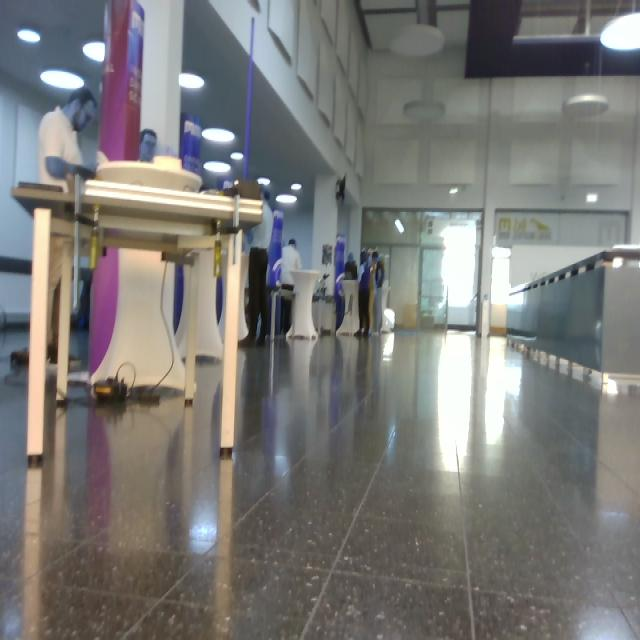door: (419, 247, 448, 331)
light bulb: (389, 24, 445, 58), (600, 12, 640, 52), (564, 93, 609, 118), (40, 69, 85, 90), (404, 100, 445, 122), (153, 154, 183, 172), (202, 128, 235, 144), (83, 41, 106, 62), (179, 73, 205, 90), (17, 28, 41, 44), (204, 161, 231, 173), (276, 194, 298, 204), (395, 219, 405, 235), (612, 257, 623, 269), (231, 152, 244, 161), (257, 177, 270, 185), (291, 183, 302, 191)
person: (11, 86, 100, 365), (280, 239, 303, 335)
staircase: (12, 166, 265, 465)
tiled floor: (2, 324, 639, 638)
